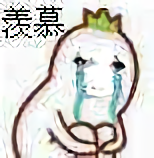dragon: (72, 52, 125, 102)
